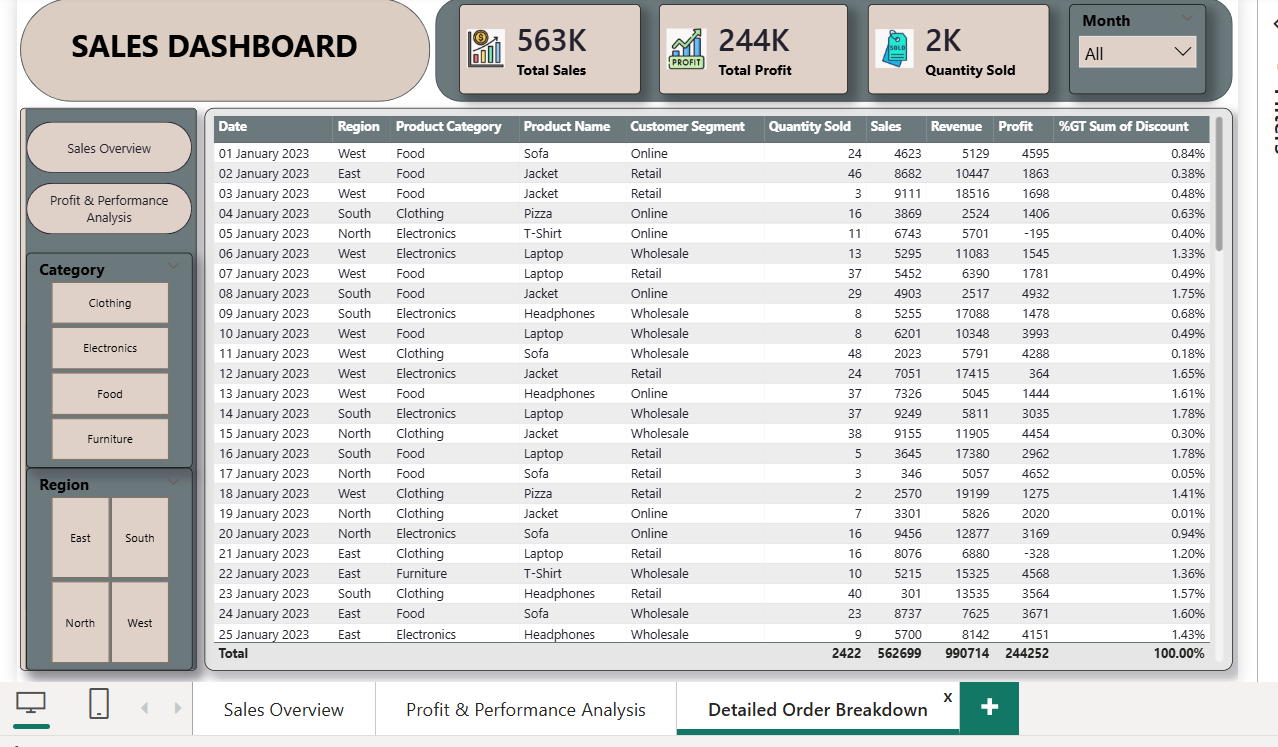

The dashboard page shown, as its layout file describes it:
{"tool":"powerbi","page":{"name":"Detailed Order Breakdown","canvas":[1280,720],"ordinal":2},"visuals":[{"type":"shape","box":[3.2,118.3,185.5,590.1],"z":0},{"type":"shape","box":[433.4,3.2,841.1,108.7],"z":1000},{"type":"tableEx","title":"Sales by Product Category","fields":{"Values":["Sales_Data (1).Date","Sales_Data (1).Region","Sales_Data (1).Product Category","Sales_Data (1).Product Name","Sales_Data (1).Customer Segment","Sales_Data (1).Total Quantity Sold","Sales_Data (1).Total Sales","Sum(Sales_Data (1).Revenue)","Sales_Data (1).Total Profit","Sum(Sales_Data (1).Discount)"]},"box":[196.7,118.3,1077.8,590.1],"z":2000},{"type":"slicer","fields":{"Values":["Sales_Data (1).Date.Variation.Date Hierarchy.Month"]},"box":[1103.4,9.6,143.9,94.3],"z":3000},{"type":"slicer","fields":{"Values":["Sales_Data (1).Region"]},"box":[9.6,495.7,174.3,212.7],"z":4000},{"type":"slicer","fields":{"Values":["Sales_Data (1).Product Category"]},"box":[9.6,270.2,174.3,225.5],"z":5000},{"type":"pageNavigator","box":[9.6,132.7,174.3,119.9],"z":6000},{"type":"cardVisual","fields":{"Data":["Sales_Data (1).Total Sales"]},"box":[463.7,9.6,190.3,94.3],"z":7000},{"type":"cardVisual","fields":{"Data":["Sales_Data (1).Total Profit"]},"box":[673.2,9.6,198.3,94.3],"z":8000},{"type":"cardVisual","fields":{"Data":["Sales_Data (1).Total Quantity Sold"]},"box":[892.3,9.6,190.3,94.3],"z":9000},{"type":"shape","box":[3.2,3.2,430.2,108.7],"z":10000},{"type":"textbox","box":[36.8,9.6,361.4,102.3],"z":11000}]}

Visuals, with their boxes on the page's 1280x720 design canvas (x1, y1, x2, y2). These are canvas units, not pixel positions in the 1278x747 screenshot, which may show the page scaled, cropped or inside an application window:
shape: bbox(3, 118, 189, 708)
shape: bbox(433, 3, 1274, 112)
"Sales by Product Category" tableEx: bbox(197, 118, 1274, 708)
slicer - Sales_Data (1).Date.Variation.Date Hierarchy.Month: bbox(1103, 10, 1247, 104)
slicer - Sales_Data (1).Region: bbox(10, 496, 184, 708)
slicer - Sales_Data (1).Product Category: bbox(10, 270, 184, 496)
pageNavigator: bbox(10, 133, 184, 253)
cardVisual - Sales_Data (1).Total Sales: bbox(464, 10, 654, 104)
cardVisual - Sales_Data (1).Total Profit: bbox(673, 10, 872, 104)
cardVisual - Sales_Data (1).Total Quantity Sold: bbox(892, 10, 1083, 104)
shape: bbox(3, 3, 433, 112)
textbox: bbox(37, 10, 398, 112)
